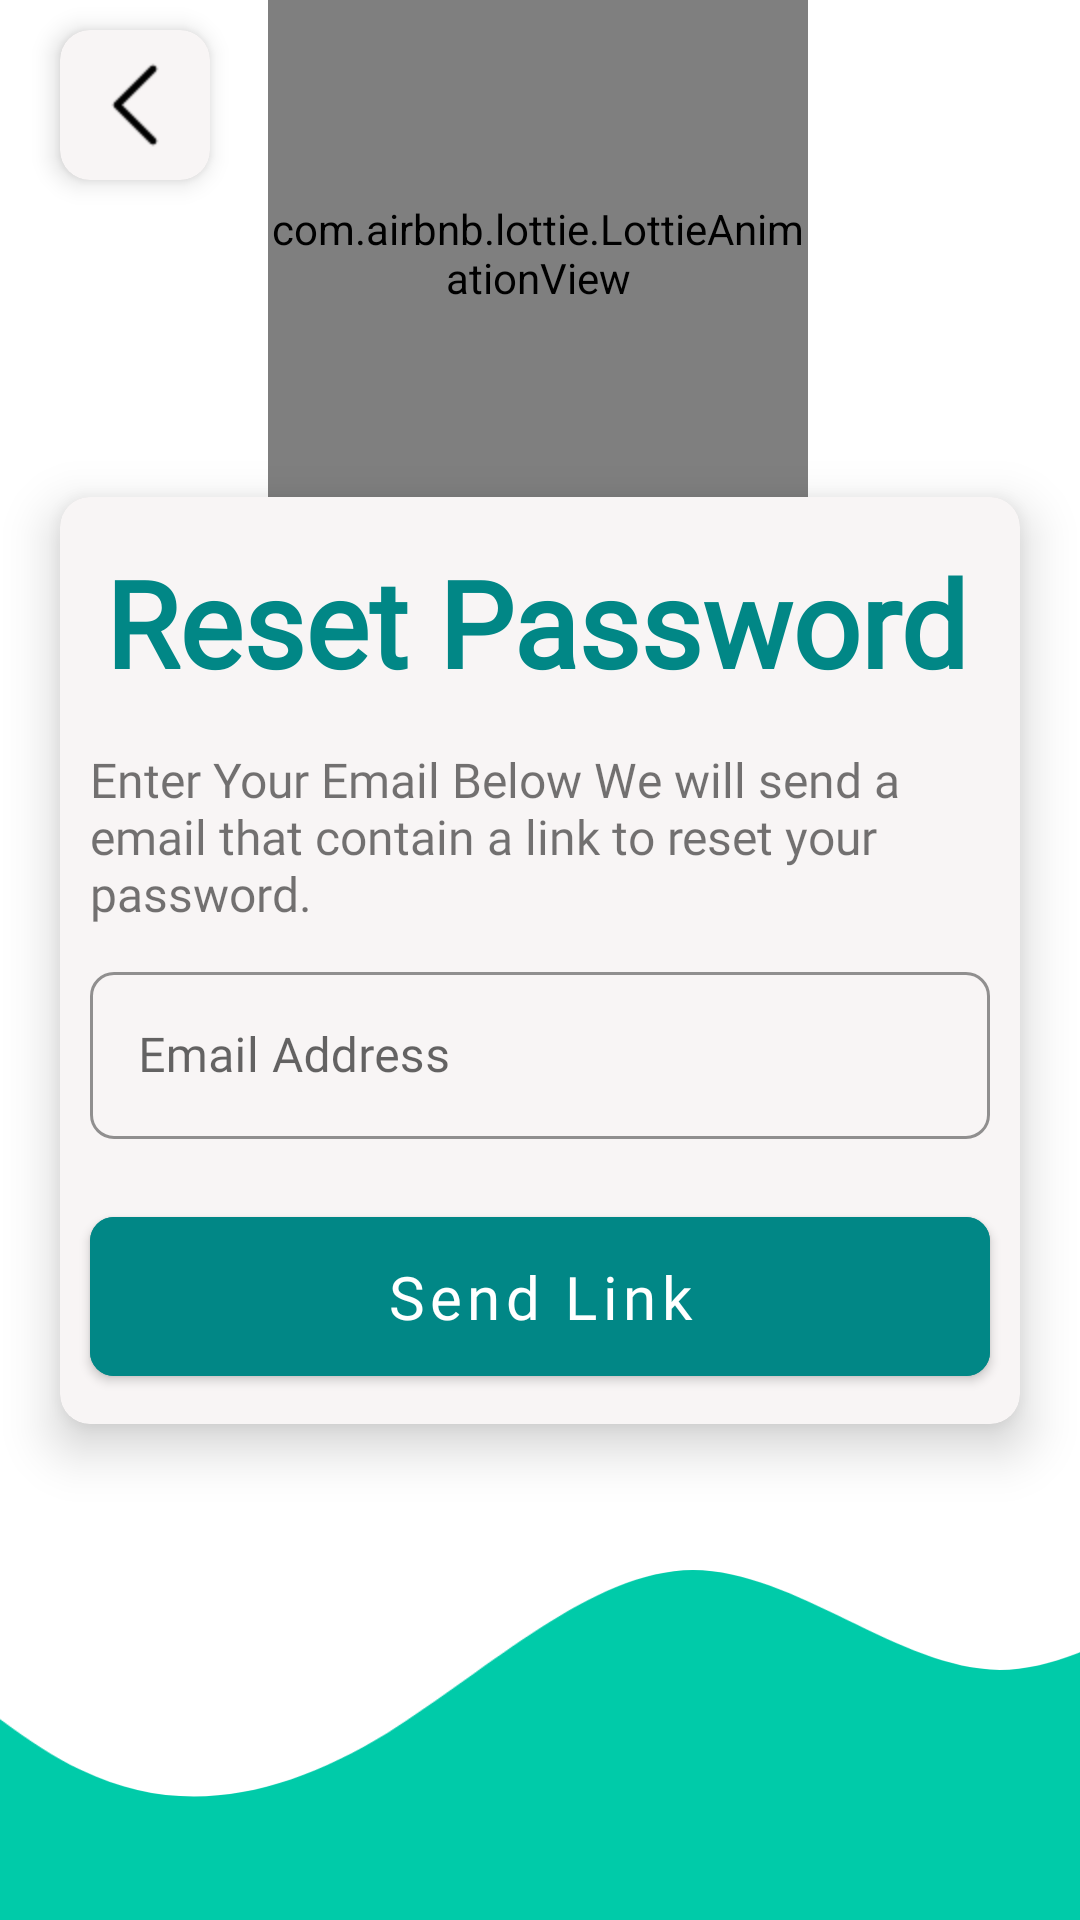

Where icons sit on this 1080 × 1920 app screen, as (x1, y1, x2, y2):
back: (60, 53, 158, 161)
